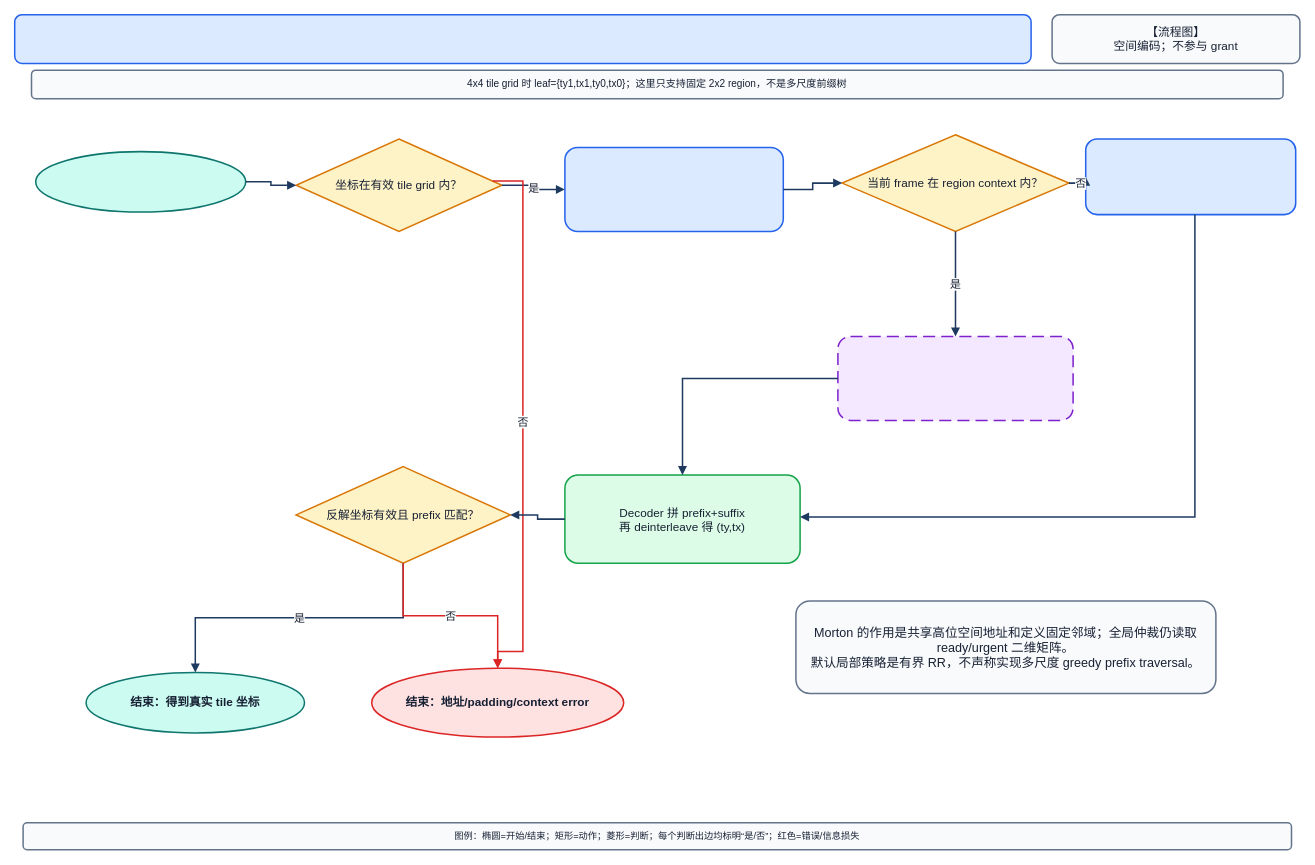
The diagram is 1315 pixels wide and 865 high, and some of its shapes have lost their labels. The centre of each missing label's shape, as x and y in pixels:
"Morton/Z-order：把真实 tile 坐标变成 region prefix + tile suffix" belongs at [522,39].
"region：prefix={ty1,tx1} 只发送 suffix={ty0,tx0}" belongs at [955,378].
"standalone：发送完整 Morton leaf" belongs at [1190,176].
"开始：真实 tile 坐标 (ty,tx)" belongs at [140,181].
"拆 ty/tx bit 并交织 leaf={ty1,tx1,ty0,tx0}" belongs at [674,189].
